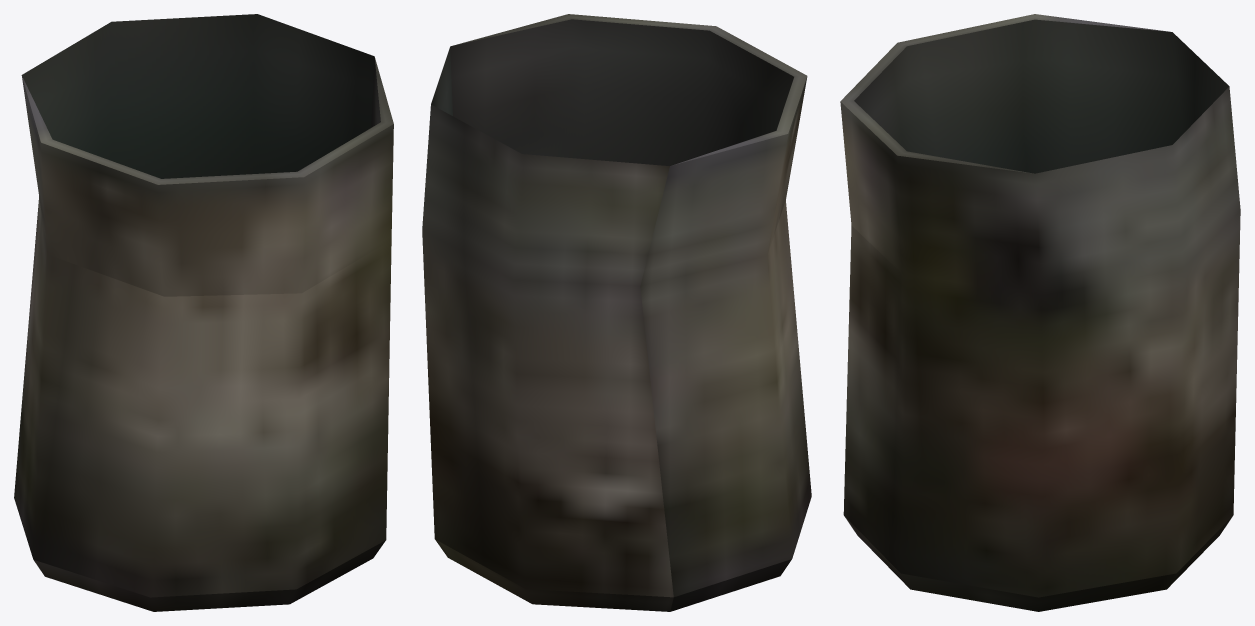
File: garbage_metalcan002a.glb
The picture shows the model from 3 angles, left to right: view 1: azimuth 30°, elevation 25°; view 2: azimuth 150°, elevation 25°; view 3: azimuth 270°, elevation 25°; orthographic projection.
Visible parts, largest first — view 1: 0_garbage001a_01; view 2: 0_garbage001a_01; view 3: 0_garbage001a_01.
Part boxes in pixels (left/top/right/bottom): 0_garbage001a_01: left=14, top=14, right=393, bottom=611; 0_garbage001a_01: left=422, top=14, right=811, bottom=611; 0_garbage001a_01: left=840, top=14, right=1240, bottom=611.
Size of the model in its own units: 0.1506 by 0.1876 by 0.1506.
1 material, 1 textured.
